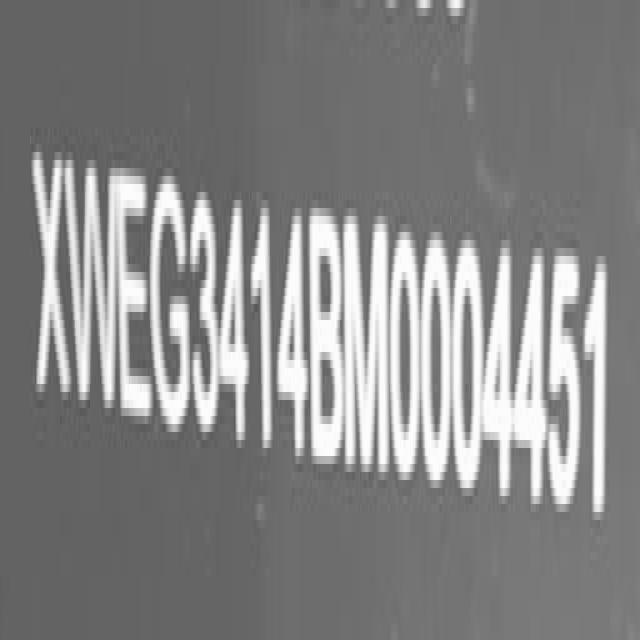0: (452, 227, 485, 504), (420, 225, 452, 497), (392, 212, 423, 490)
1: (585, 246, 610, 535), (252, 190, 276, 466)
3: (192, 182, 224, 452)
4: (514, 236, 550, 517), (482, 229, 514, 511), (277, 192, 309, 472), (218, 190, 250, 458)
5: (550, 240, 584, 525)
B: (310, 197, 346, 477)
E: (118, 150, 153, 432)
G: (151, 159, 192, 438)
M: (345, 203, 390, 488)
W: (67, 142, 122, 427)
X: (32, 136, 71, 422)
